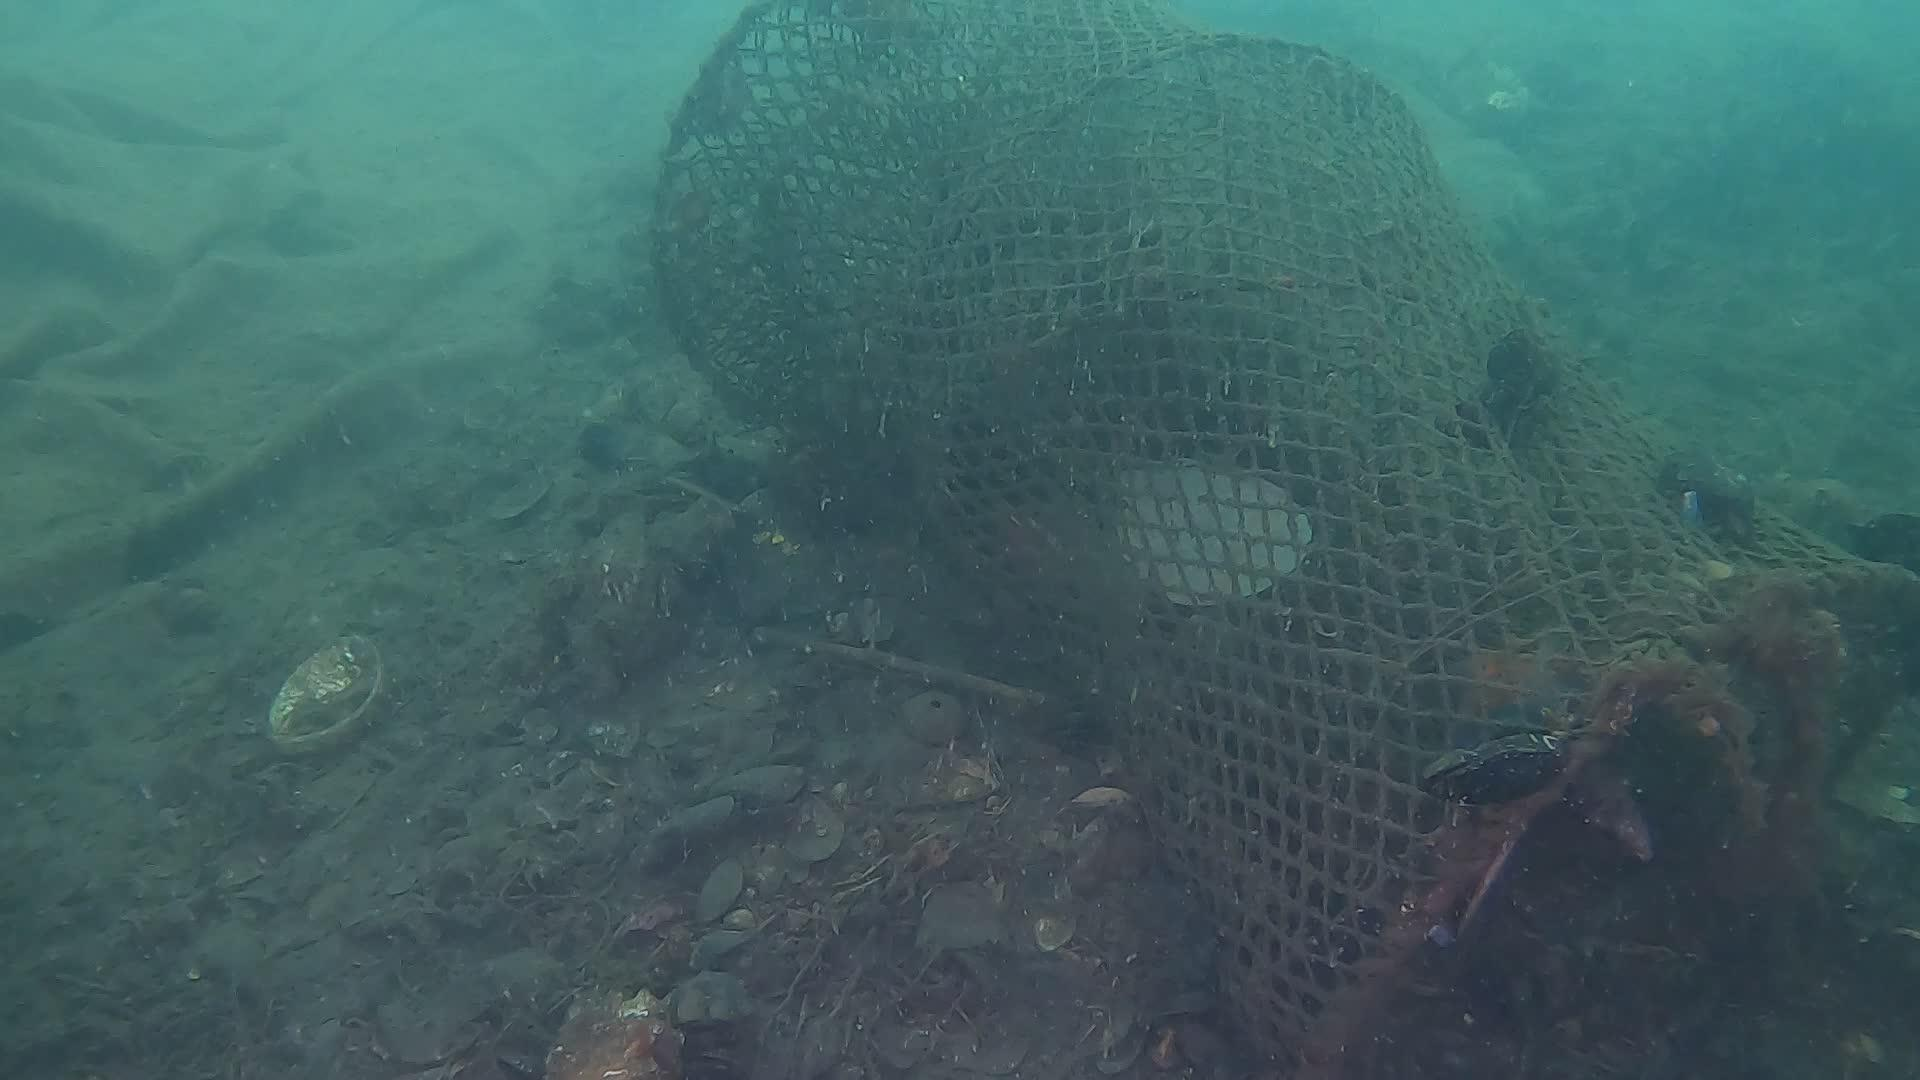spring fish trap: (644, 0, 1920, 1079)
